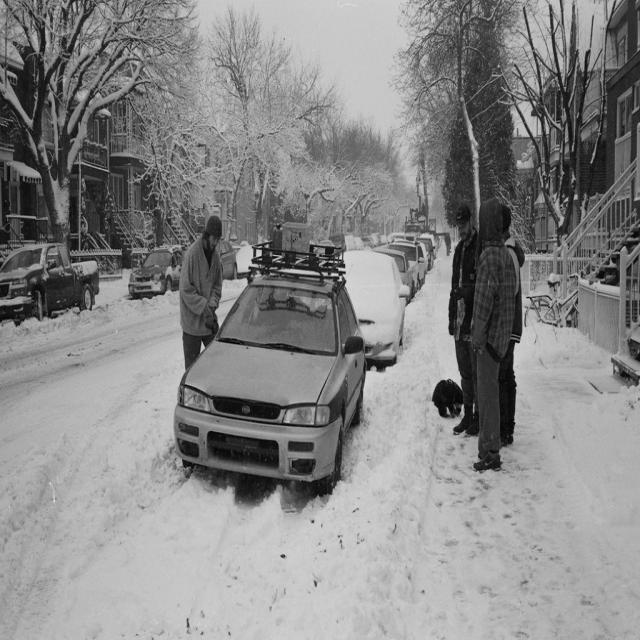car: (163, 232, 379, 498)
